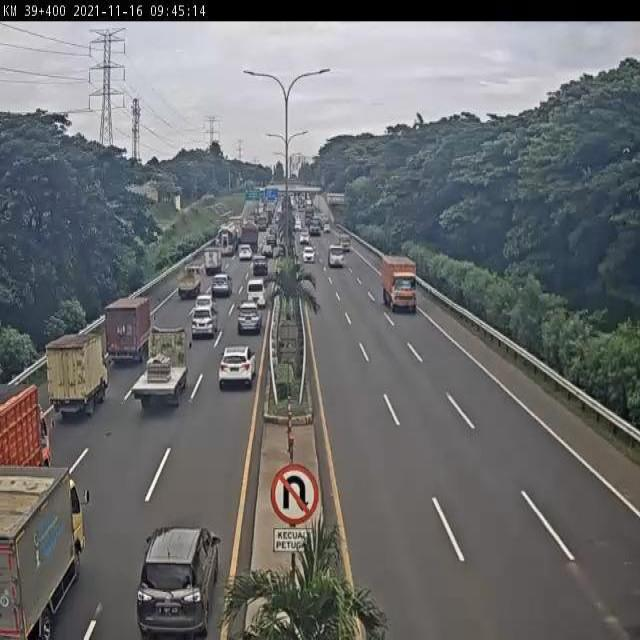ARABA: (134, 528, 219, 640), (217, 347, 257, 393), (191, 308, 219, 344), (238, 308, 262, 339), (245, 283, 264, 313), (211, 274, 231, 302), (194, 291, 216, 313), (251, 261, 269, 279)
KAMYONET: (131, 325, 191, 411), (41, 337, 99, 419), (104, 296, 153, 364), (382, 257, 418, 311), (177, 263, 203, 300), (202, 242, 221, 274)
